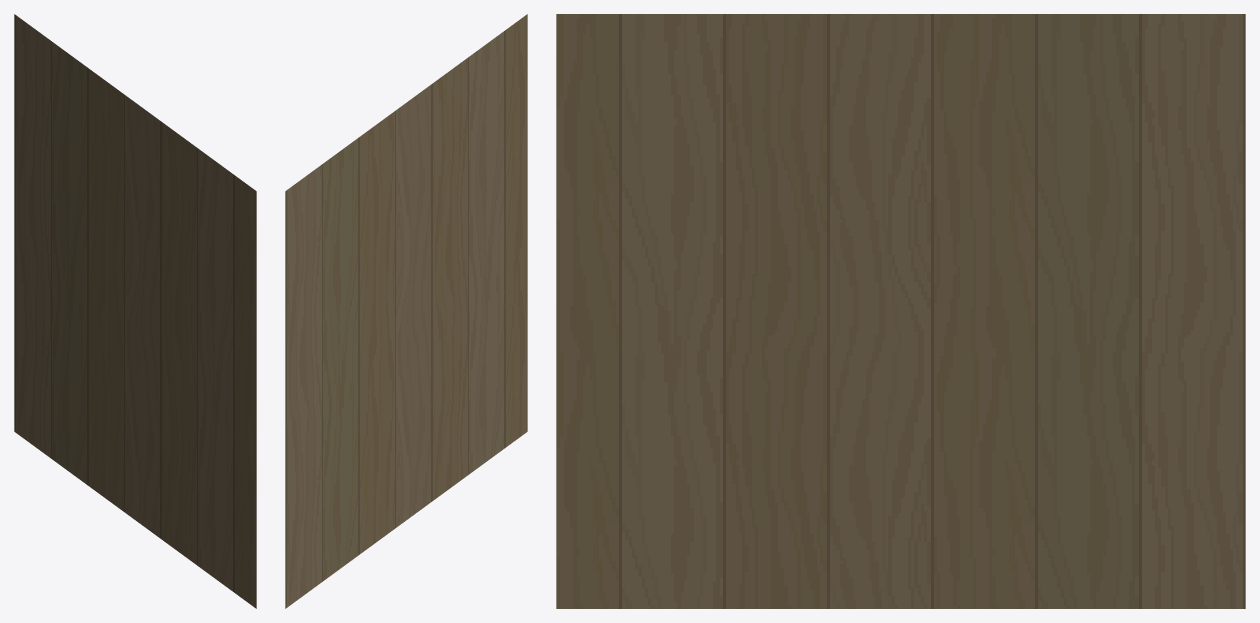
Rendered from kd_stage_135ded_4_12_exterior_piece_0.glb.
3 renders of one model, left to right at view 1: azimuth 30°, elevation 25°; view 2: azimuth 150°, elevation 25°; view 3: azimuth 270°, elevation 25°, orthographic. The views are drawn at different scales.
Visible parts, largest first — view 1: kd_stage_135ded_4_12_exterior_piece_0; view 2: kd_stage_135ded_4_12_exterior_piece_0; view 3: kd_stage_135ded_4_12_exterior_piece_0.
Part boxes in pixels (bbox=[...]): kd_stage_135ded_4_12_exterior_piece_0: bbox=[14, 14, 256, 608]; kd_stage_135ded_4_12_exterior_piece_0: bbox=[285, 14, 527, 608]; kd_stage_135ded_4_12_exterior_piece_0: bbox=[556, 14, 1245, 608].
Bounding box in the file's own units: 0 × 0.5475 × 0.575.
1 material, 1 textured.
